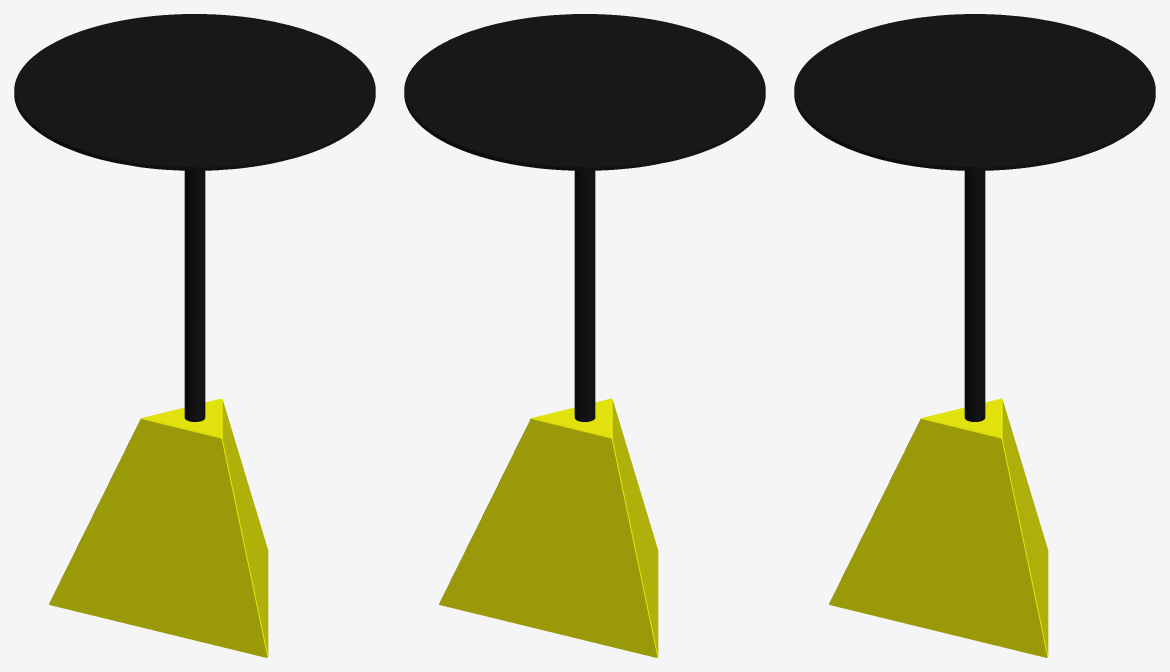
Rendered from designconnected-knockout-tables-7887.optimized.glb.
The picture shows the model from 3 angles, left to right: view 1: azimuth 30°, elevation 25°; view 2: azimuth 150°, elevation 25°; view 3: azimuth 270°, elevation 25°; orthographic projection.
Parts seen in each view (by area): view 1: Friends_Founders_Knockout_Pyramid_B_mat1; view 2: Friends_Founders_Knockout_Pyramid_B_mat1; view 3: Friends_Founders_Knockout_Pyramid_B_mat1.
Part boxes in pixels (<box>): Friends_Founders_Knockout_Pyramid_B_mat1: <box>14,14,375,657</box>; Friends_Founders_Knockout_Pyramid_B_mat1: <box>404,14,765,657</box>; Friends_Founders_Knockout_Pyramid_B_mat1: <box>794,14,1155,657</box>.
Size of the model in its own units: 0.35 by 0.55 by 0.35.
